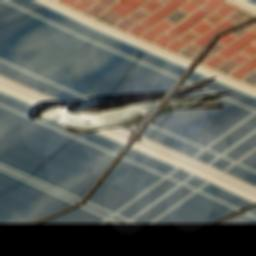Swallow: (19, 36, 249, 169)
